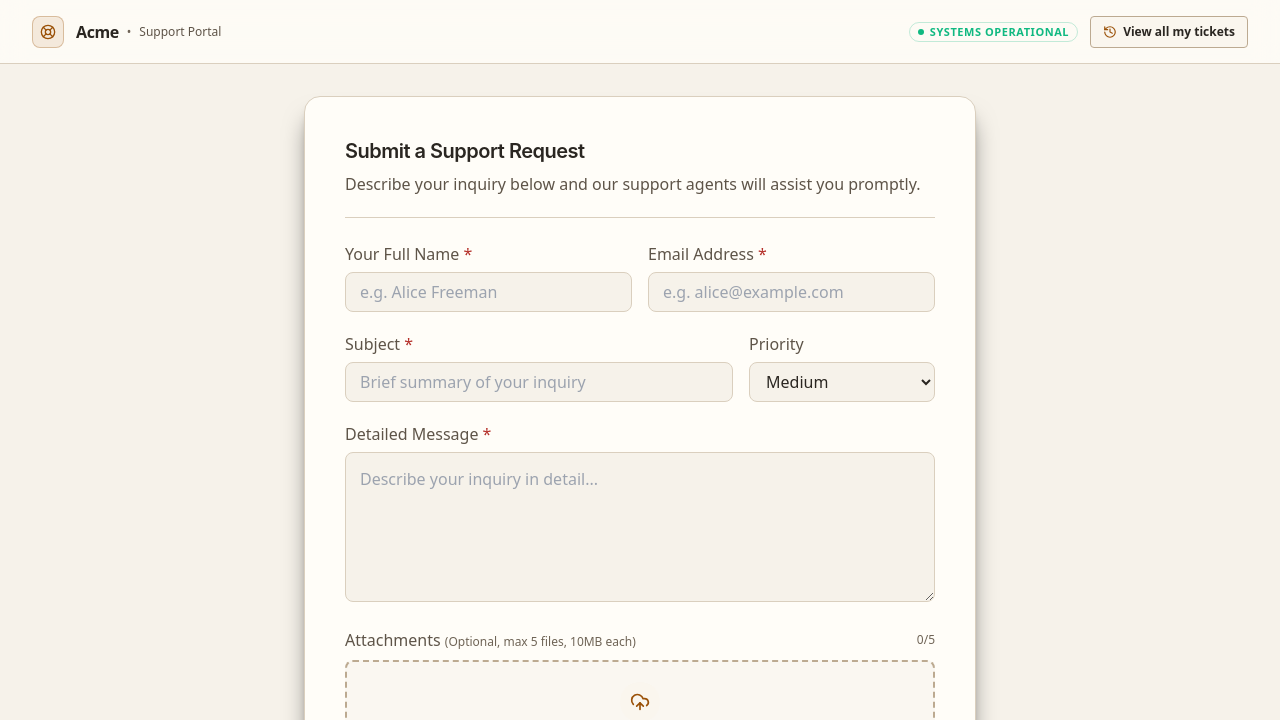
Stage 2.8 Functional Test Harness: Customer Submission & Agent Queue › allows a customer to submit a support request on the customer portal
Check: the heading "Submit a Support Request" is shown, box [345, 139, 585, 163]
Type "Alice Freeman" into the field with test id "portal-customer-name". click: (488, 292)
box: [345, 272, 632, 312]
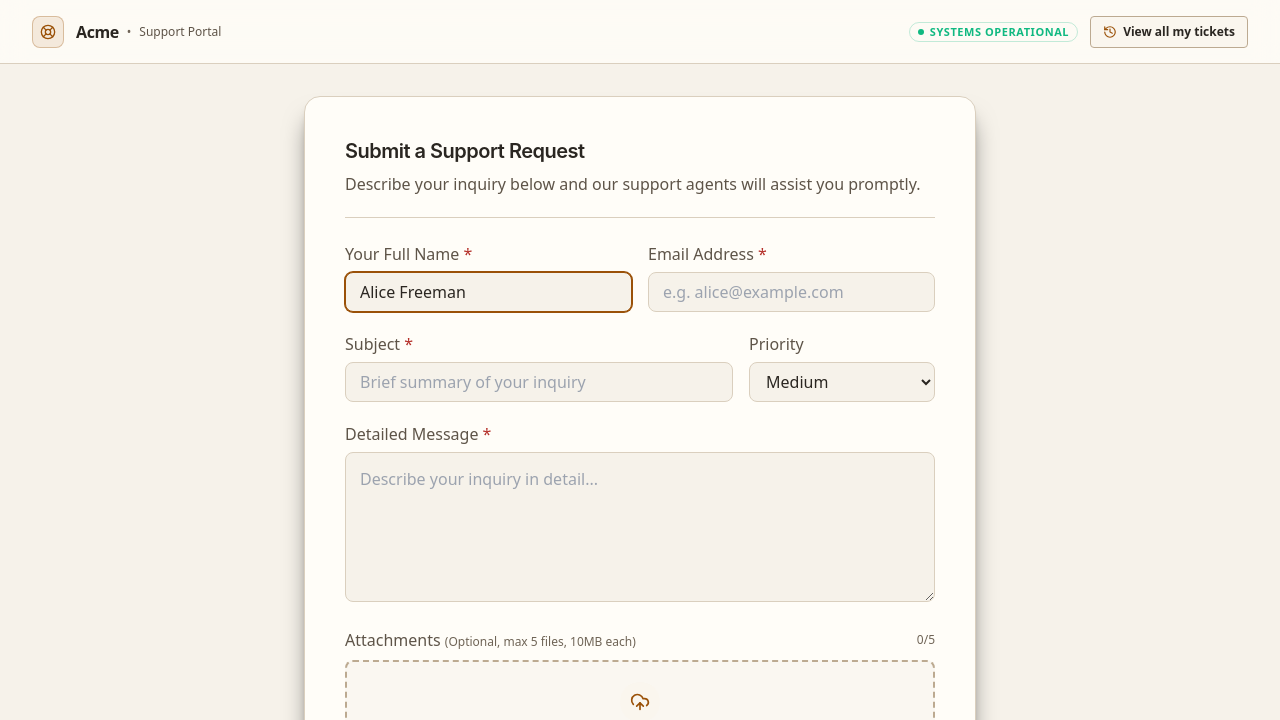
Type "alice@example.com" into the field with test id "portal-customer-email". click: (792, 292)
box: [648, 272, 935, 312]
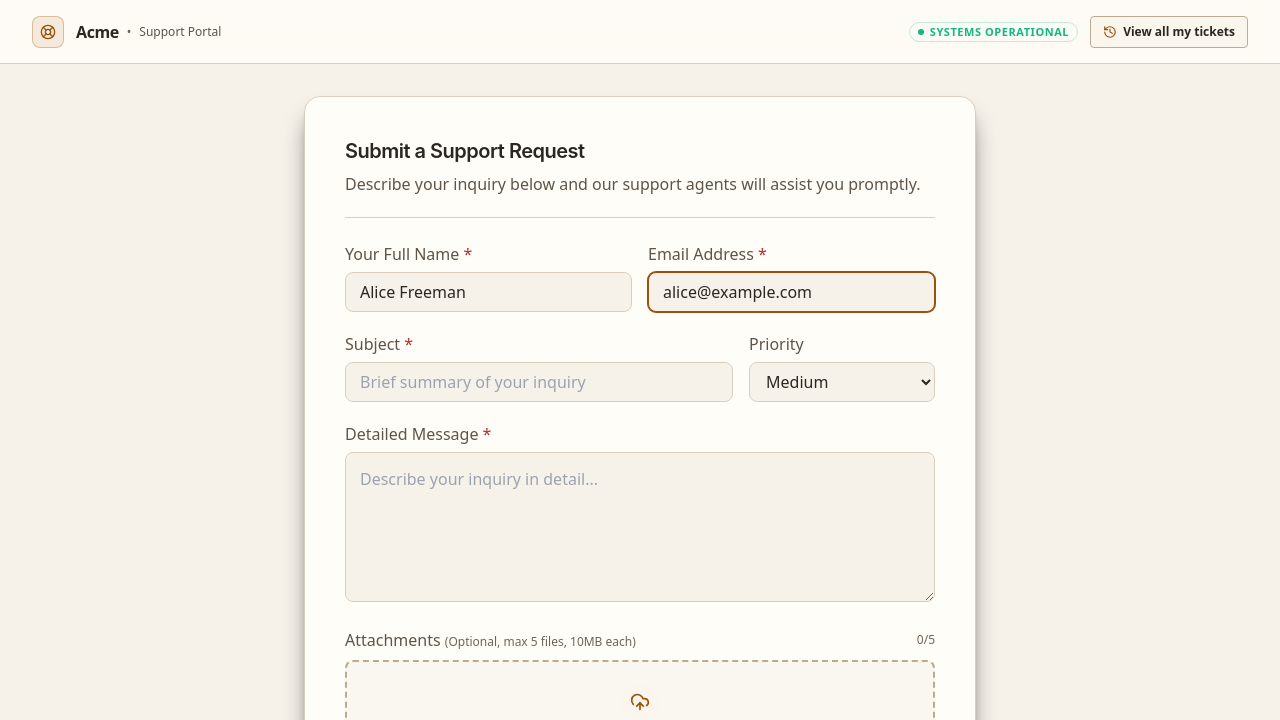
Type "Login issue with 2FA" into the field with test id "portal-ticket-subject". click: (539, 382)
box: [345, 362, 733, 402]
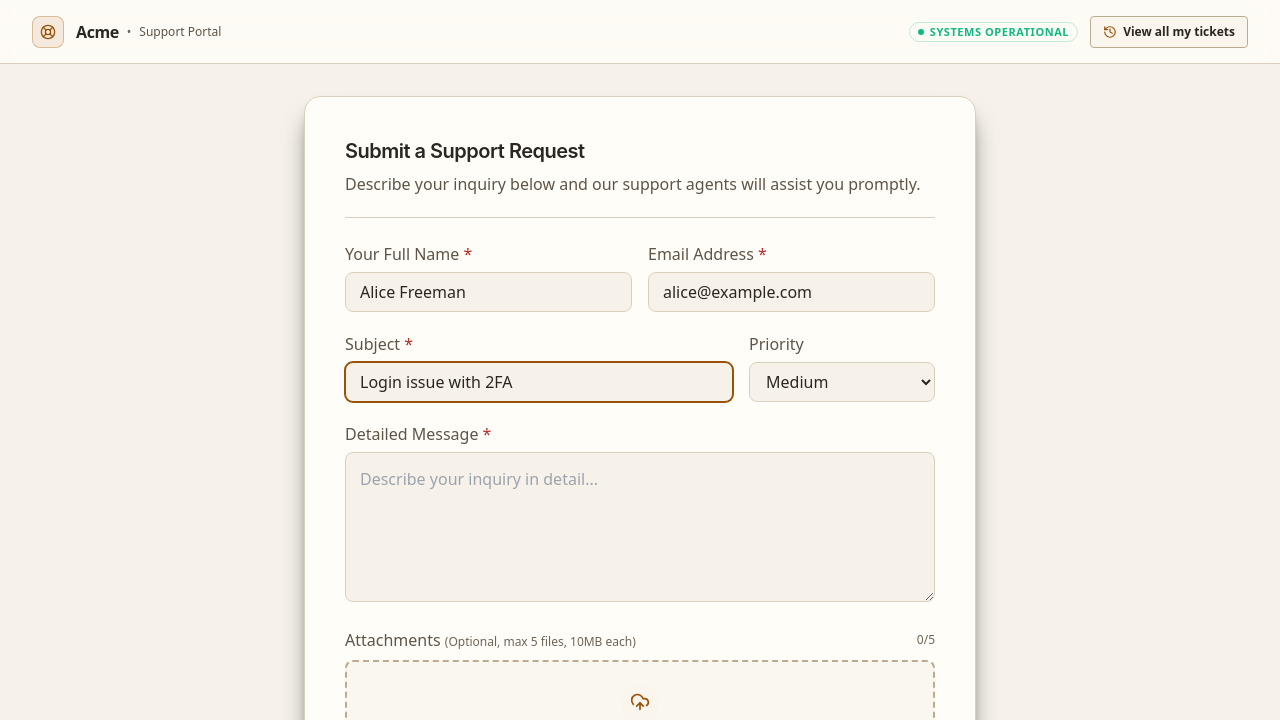
Select "Urgent" in the dropdown with test id "portal-ticket-priority". click: (842, 382)
box: [749, 362, 935, 402]
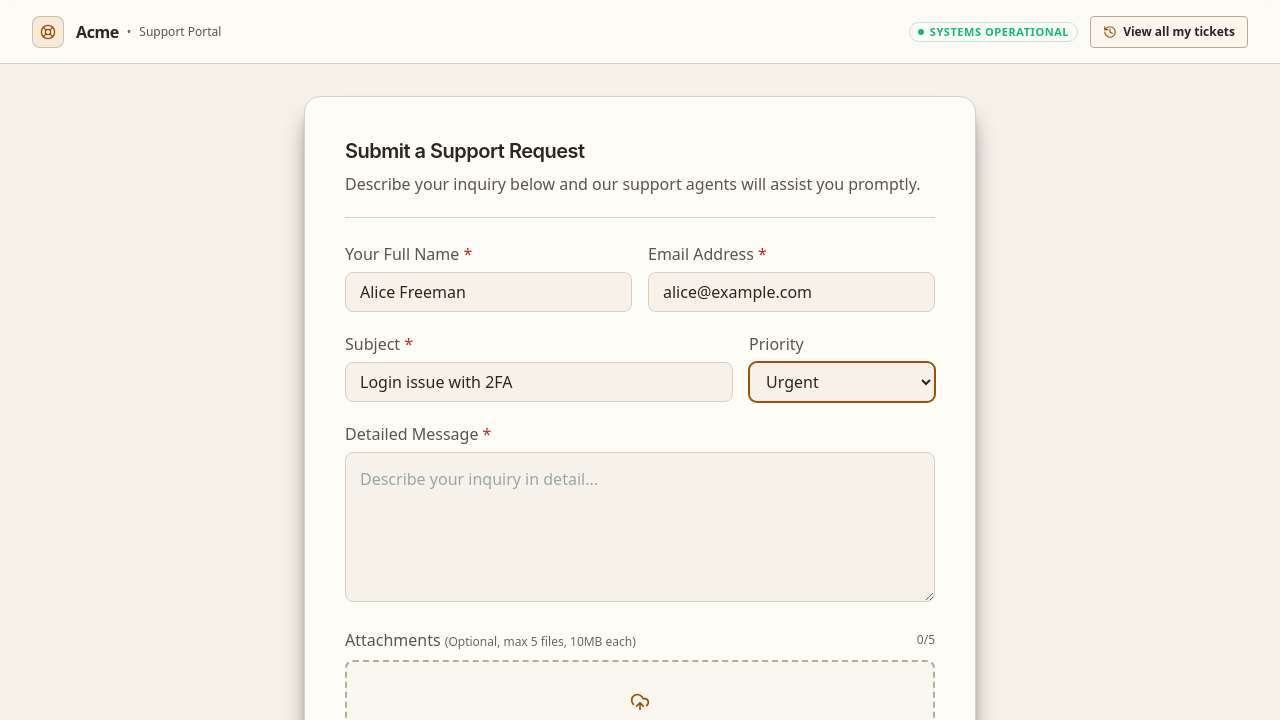
Type "Cannot receive SMS verification code on phone." into the text box with test id "portal-ticket-message". click: (640, 527)
box: [345, 452, 935, 602]
(page scrolled)
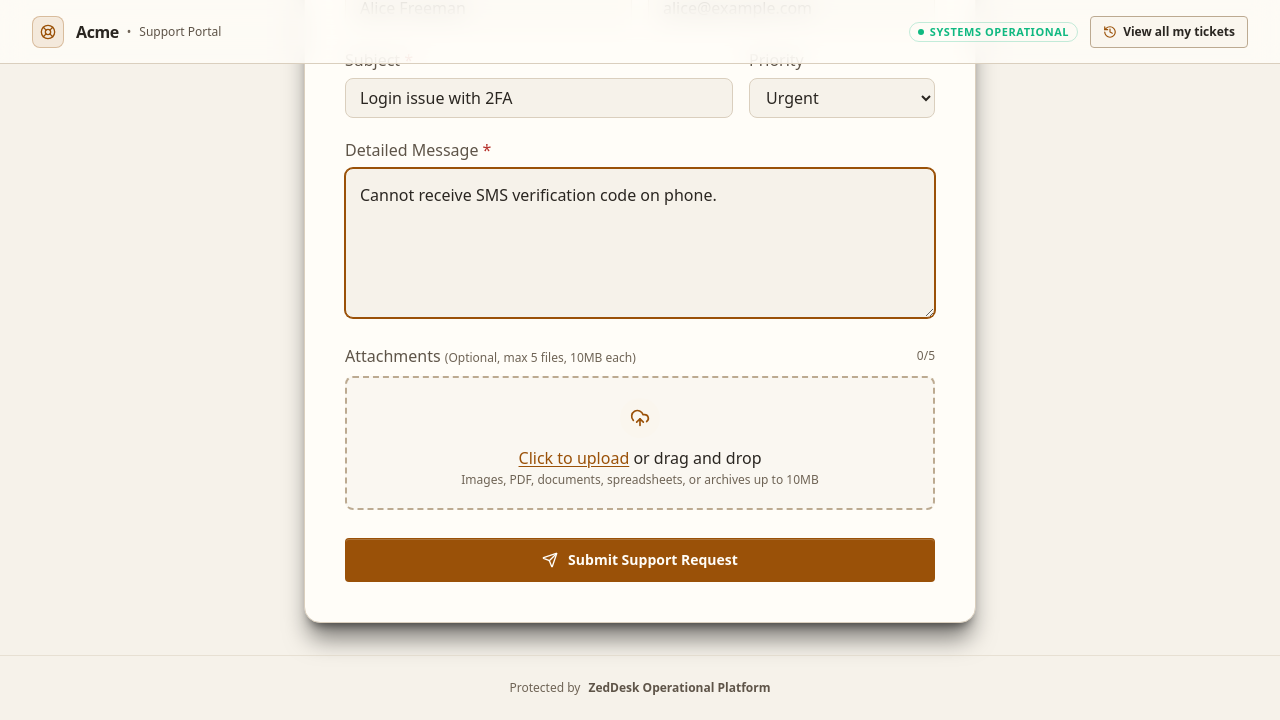
Click the button with test id "portal-submit-btn". click: (640, 560)
box: [345, 538, 935, 582]
(page scrolled)
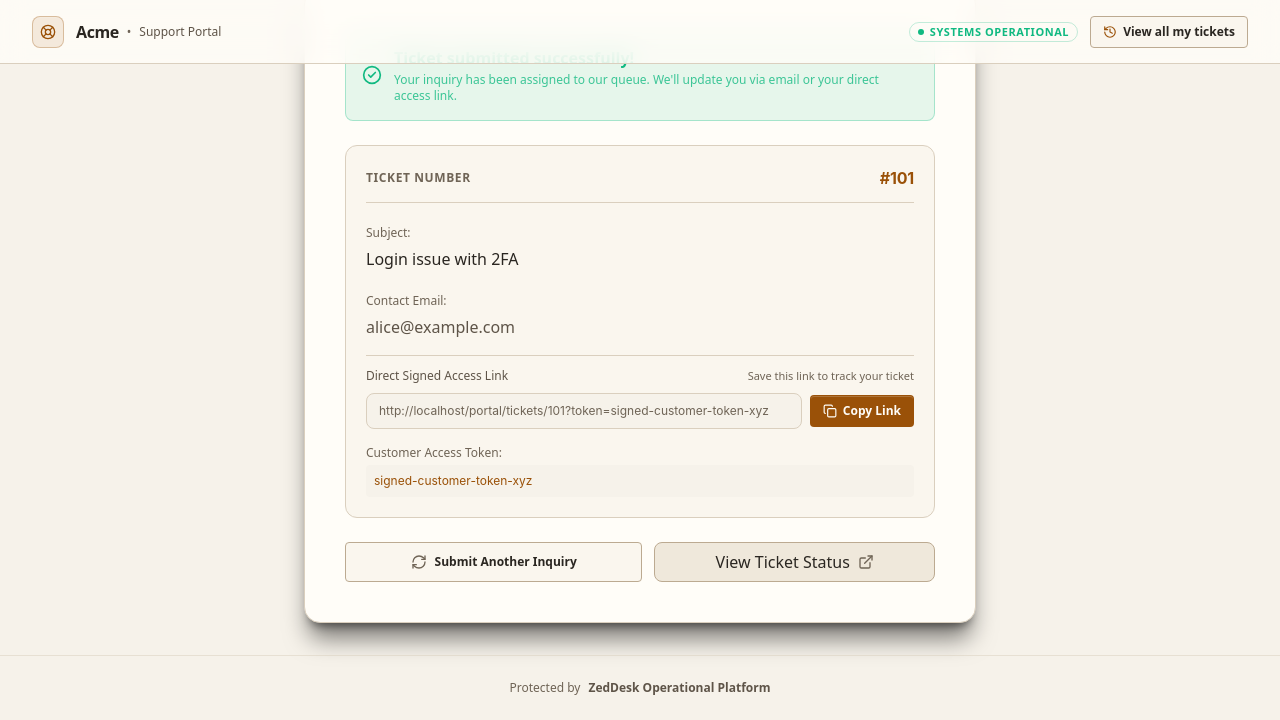
Check: the element with test id "portal-success-message" shows "Ticket submitted successfully!", box [394, 47, 634, 69]
Check: the text with test id "portal-submitted-ticket-number" reads "#101", box [880, 166, 914, 190]
Check: the text with test id "portal-access-token" reads "signed-customer-token-xyz", box [374, 472, 532, 488]
